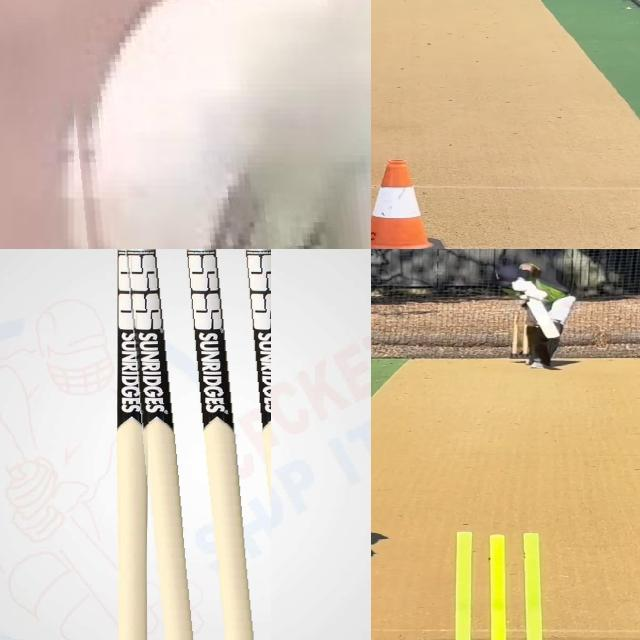Cricket ball: (58, 0, 371, 249)
Stumps: (115, 249, 271, 640), (440, 530, 567, 640)
